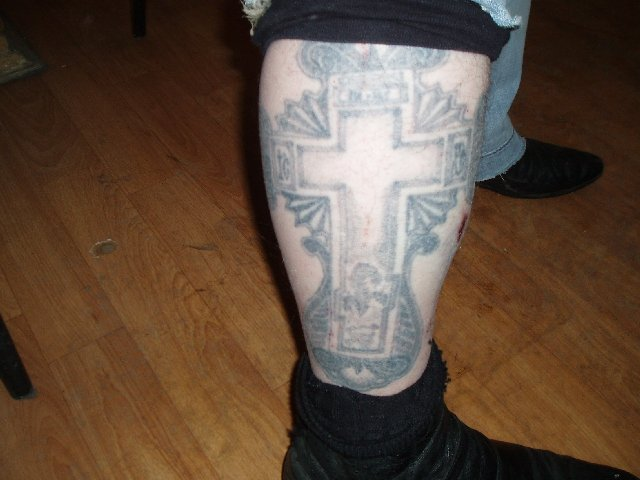tatu9_krest: (291, 92, 438, 358)
